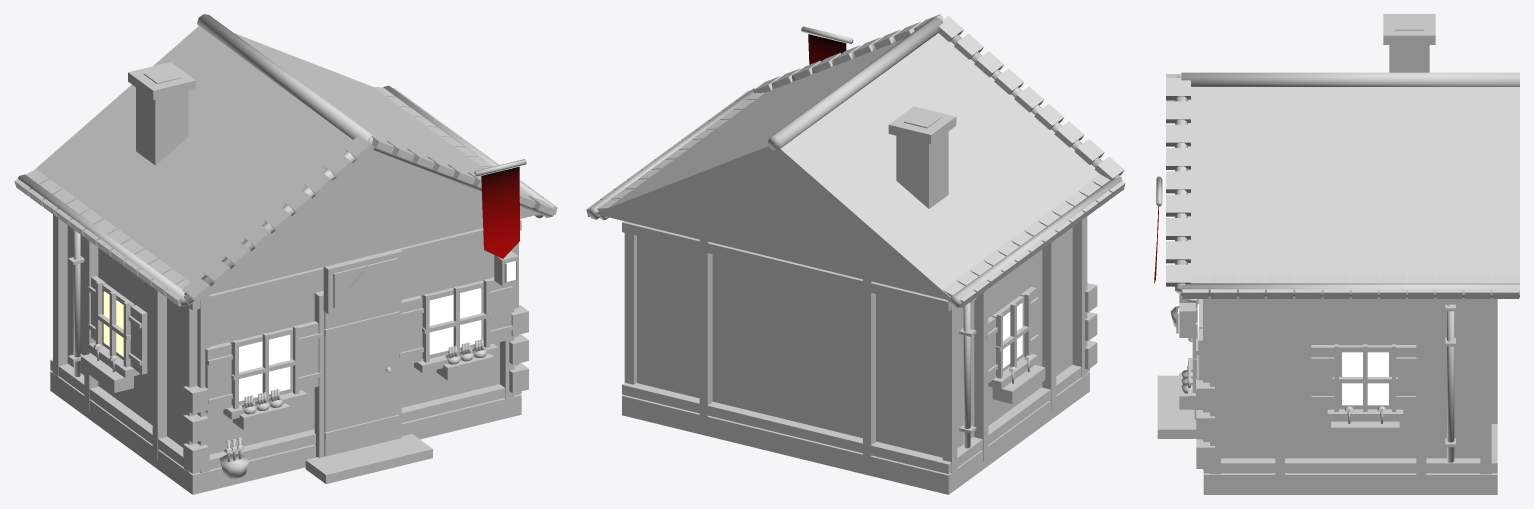
Rendered from Ma_Loge.glb.
3 views of the same model, side by side, from view 1: azimuth 30°, elevation 25°; view 2: azimuth 150°, elevation 25°; view 3: azimuth 270°, elevation 25° (orthographic). The views are drawn at different scales.
Parts seen in each view (by area): view 1: Structure, Drapeau_Joueur; view 2: Structure, Drapeau_Joueur; view 3: Structure.
Boxes of the visible parts, <box> form: Structure: <box>14,14,557,494</box>; Drapeau_Joueur: <box>481,166,519,258</box>; Structure: <box>586,14,1125,494</box>; Drapeau_Joueur: <box>808,34,846,64</box>; Structure: <box>1156,14,1519,494</box>.
Bounding box in the file's own units: 6.94 × 5.75 × 5.6.
